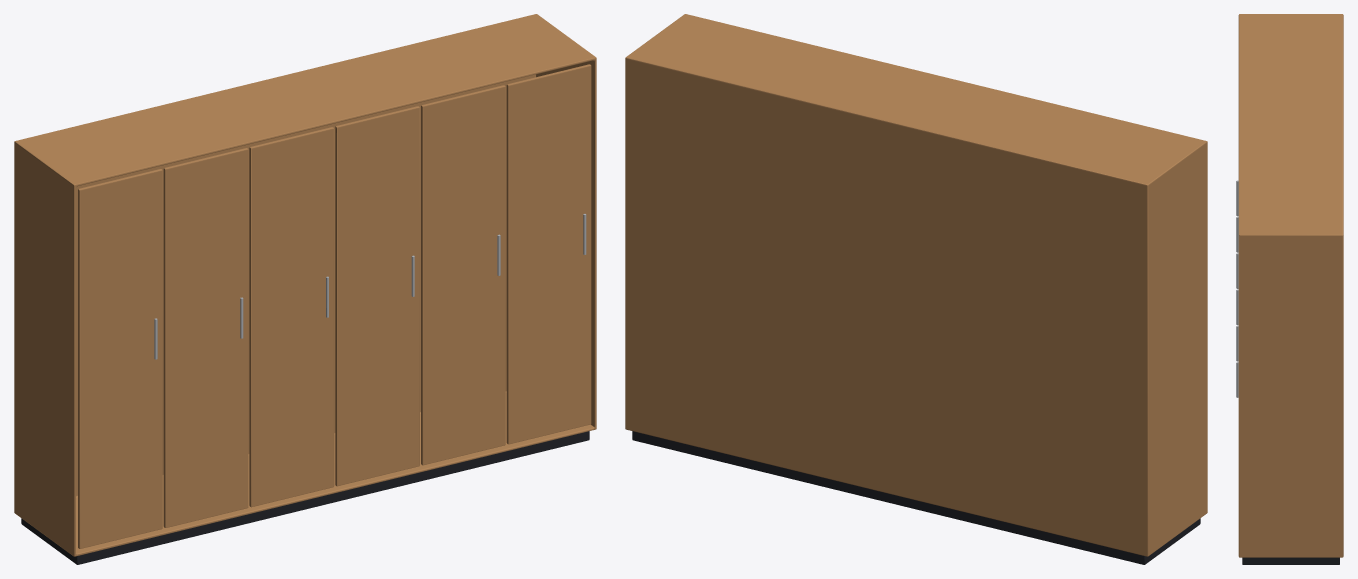
The model's file is wardrobe-300.glb.
3 views of the same model, side by side, from view 1: azimuth 30°, elevation 25°; view 2: azimuth 150°, elevation 25°; view 3: azimuth 270°, elevation 25° (orthographic). The views are drawn at different scales.
Parts seen in each view (by area): view 1: wardrobe-300; view 2: wardrobe-300; view 3: wardrobe-300.
Boxes of the visible parts, left/top/right/bottom form: wardrobe-300: left=14, top=14, right=596, bottom=564; wardrobe-300: left=625, top=14, right=1207, bottom=564; wardrobe-300: left=1236, top=14, right=1343, bottom=564.
Bounding box in the file's own units: 3 × 2.1 × 0.613.
